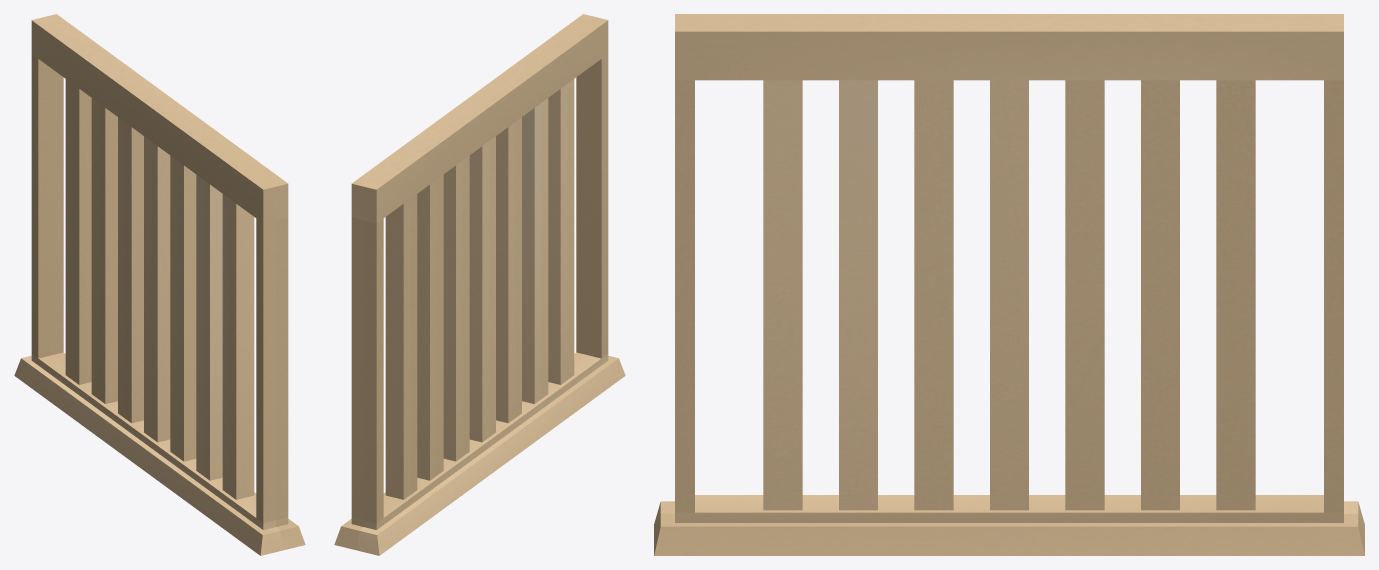
The model's file is Gate.fbx.
3 renders of one model, left to right at view 1: azimuth 30°, elevation 25°; view 2: azimuth 150°, elevation 25°; view 3: azimuth 270°, elevation 25°, orthographic. The views are drawn at different scales.
Parts seen in each view (by area): view 1: Gate; view 2: Gate; view 3: Gate.
Boxes of the visible parts, <box> form: Gate: <box>14,14,305,555</box>; Gate: <box>334,14,625,555</box>; Gate: <box>654,14,1364,555</box>.
Size of the model in its own units: 74.76 by 567 by 706.
1 material, 1 textured.
